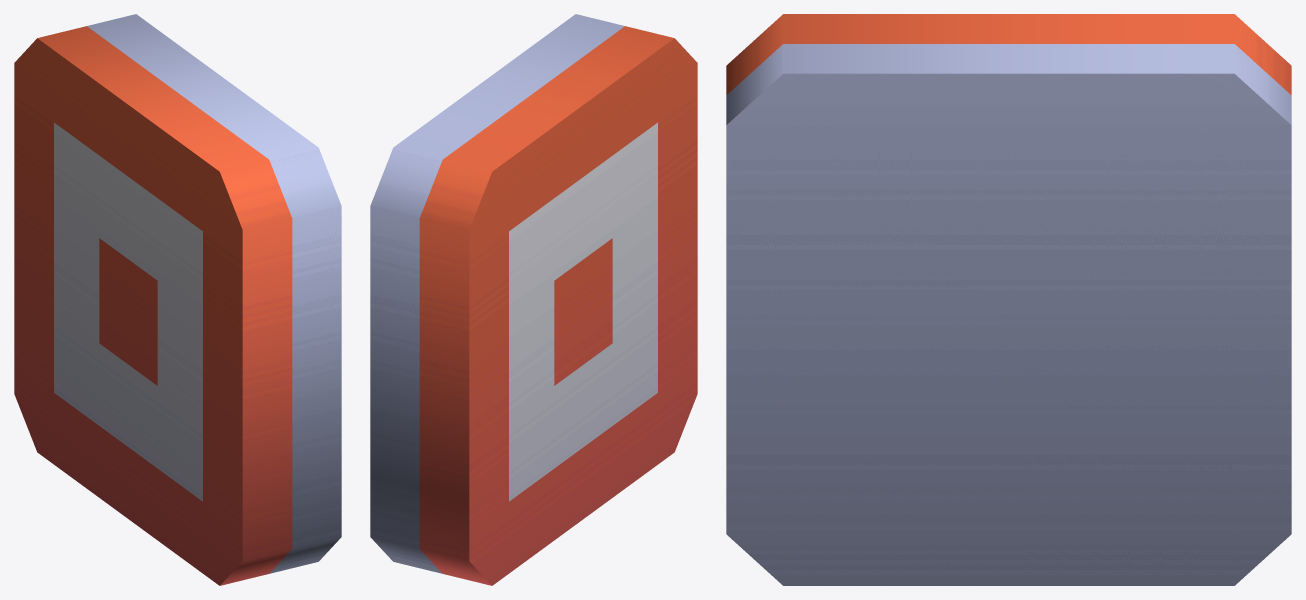
File: target-a-square.glb
3 renders of one model, left to right at view 1: azimuth 30°, elevation 25°; view 2: azimuth 150°, elevation 25°; view 3: azimuth 270°, elevation 25°, orthographic. The views are drawn at different scales.
Parts seen in each view (by area): view 1: target-a-square; view 2: target-a-square; view 3: target-a-square.
Boxes of the visible parts, box(x1,y1,x2,y2) form: target-a-square: box(14, 14, 341, 585); target-a-square: box(370, 14, 697, 585); target-a-square: box(726, 14, 1291, 585).
Size of the model in its own units: 0.124 by 0.496 by 0.496.
1 material, 1 textured.
